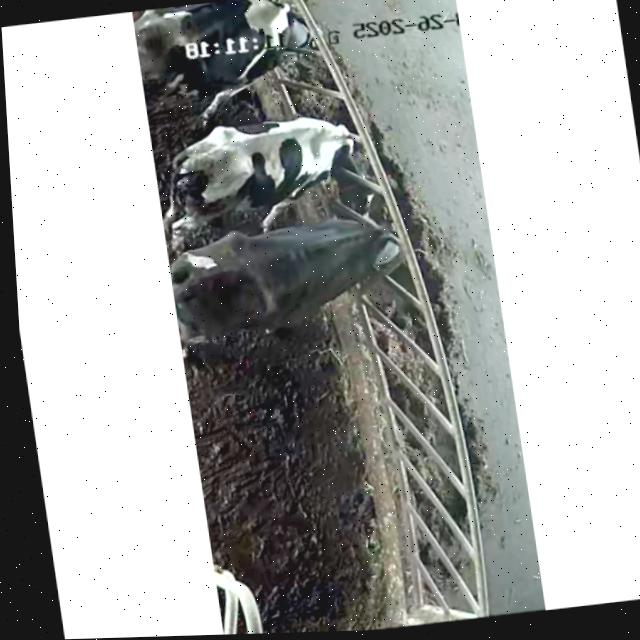eat: (264, 189, 462, 315), (231, 72, 424, 198), (192, 0, 353, 81)
